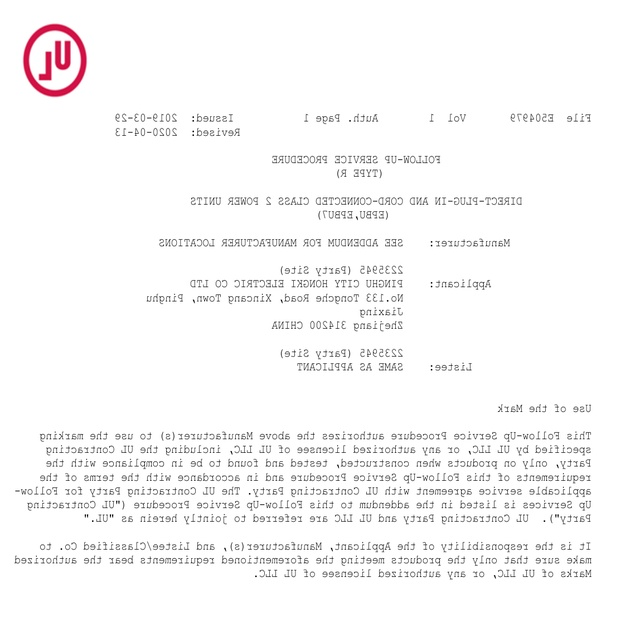ul: (22, 22, 87, 98)
